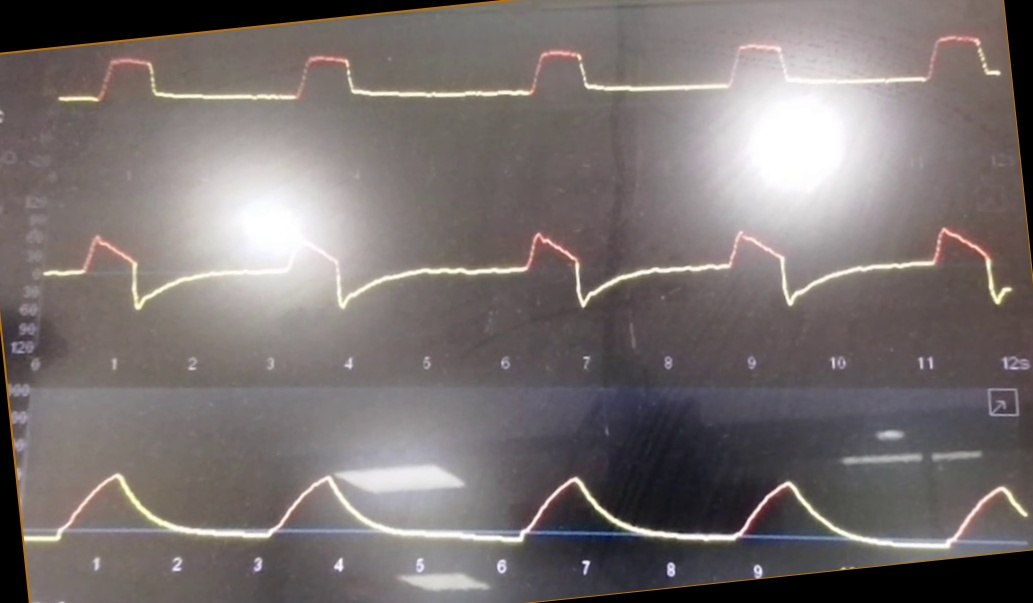Normal Flow: (47, 198, 1012, 341)
Normal Volume: (29, 427, 1029, 558)
